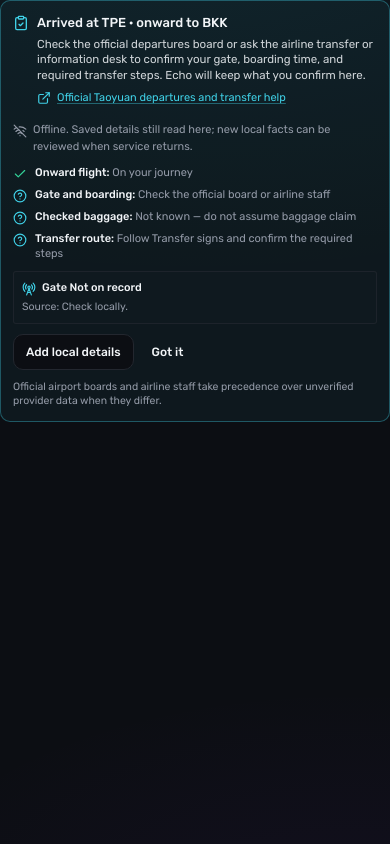
Scenario: local transfer verification › disables recording offline but keeps guidance visible
This screenshot has width=390, height=844.
Check: the text "Offline" is shown, box top-left (33, 123), bottom-right (330, 153)
Click the button "Add local details": coordinates (73, 352) top-left (13, 334), bottom-right (134, 370)
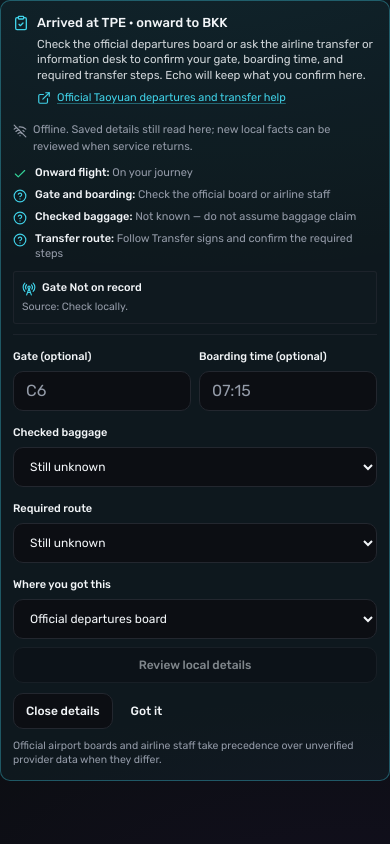
Check: the button "Review local details" is disabled, box top-left (13, 647), bottom-right (377, 683)
